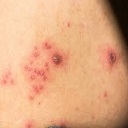Chickenpox: (26, 44, 60, 84), (105, 51, 119, 64)
